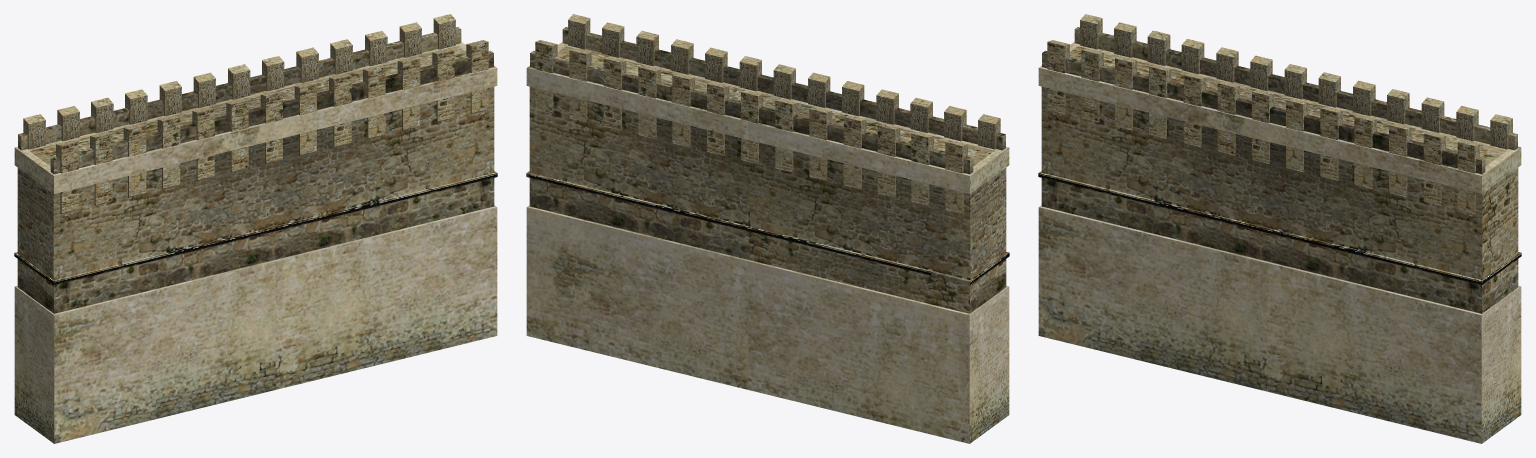
Rendered from mace_wall_segment.glb.
3 views of the same model, side by side, from view 1: azimuth 30°, elevation 25°; view 2: azimuth 150°, elevation 25°; view 3: azimuth 330°, elevation 25° (orthographic).
Visible parts, largest first — view 1: mace_wall_segment_part0; view 2: mace_wall_segment_part0; view 3: mace_wall_segment_part0.
Part boxes in pixels (x1,y1,x2,y2): mace_wall_segment_part0: [14, 14, 497, 443]; mace_wall_segment_part0: [526, 14, 1009, 443]; mace_wall_segment_part0: [1038, 14, 1521, 443].
Bounding box in the file's own units: 2 × 1.27 × 0.3092.
1 material, 1 textured.
